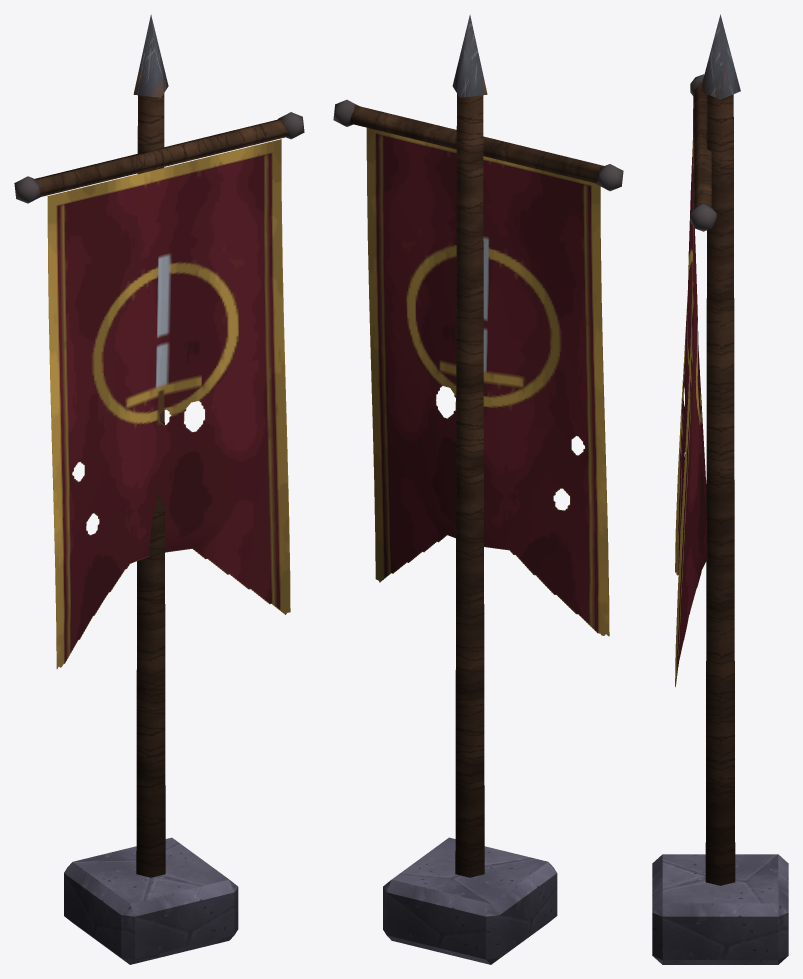
The model's file is dng_banner.glb.
3 views of the same model, side by side, from view 1: azimuth 30°, elevation 25°; view 2: azimuth 150°, elevation 25°; view 3: azimuth 270°, elevation 25° (orthographic).
Parts seen in each view (by area): view 1: dng_banner; view 2: dng_banner; view 3: dng_banner.
Part boxes in pixels (x1,y1,x2,y2): dng_banner: [14, 14, 304, 964]; dng_banner: [333, 14, 623, 964]; dng_banner: [652, 14, 788, 964].
Bounding box in the file's own units: 0.9805 × 3 × 0.4.
Materials: 4 (4 with a texture image).
